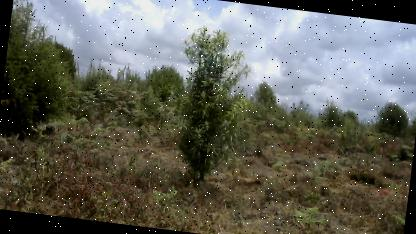tree: (164, 19, 260, 200)
